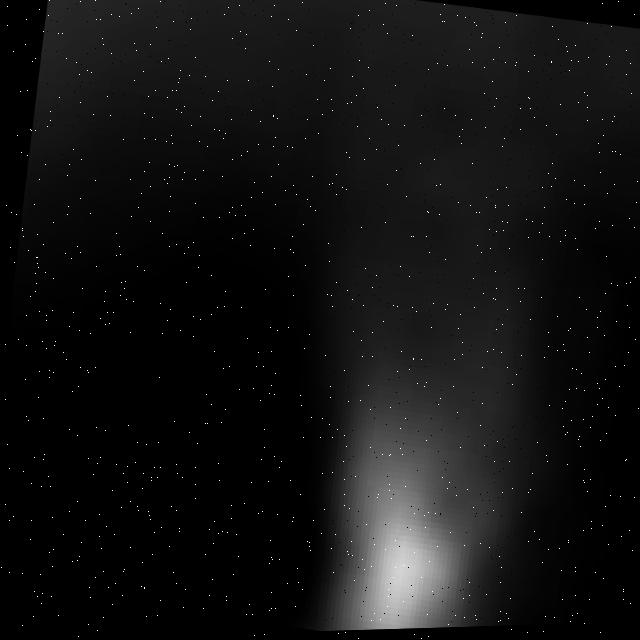person: (250, 260, 551, 635)
